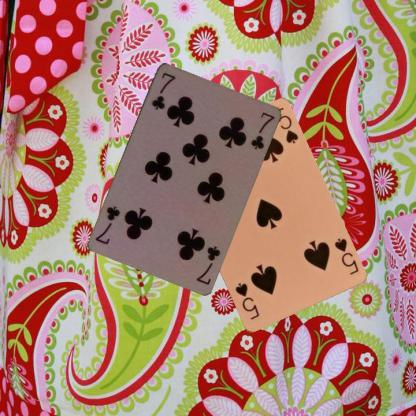5s: (331, 235, 359, 276)
7c: (147, 69, 177, 112), (194, 243, 221, 286)
